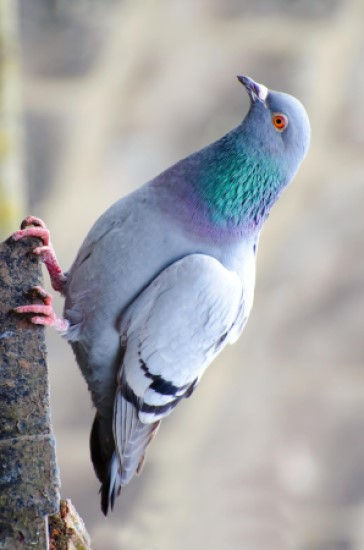pigeon: (6, 67, 317, 524)
